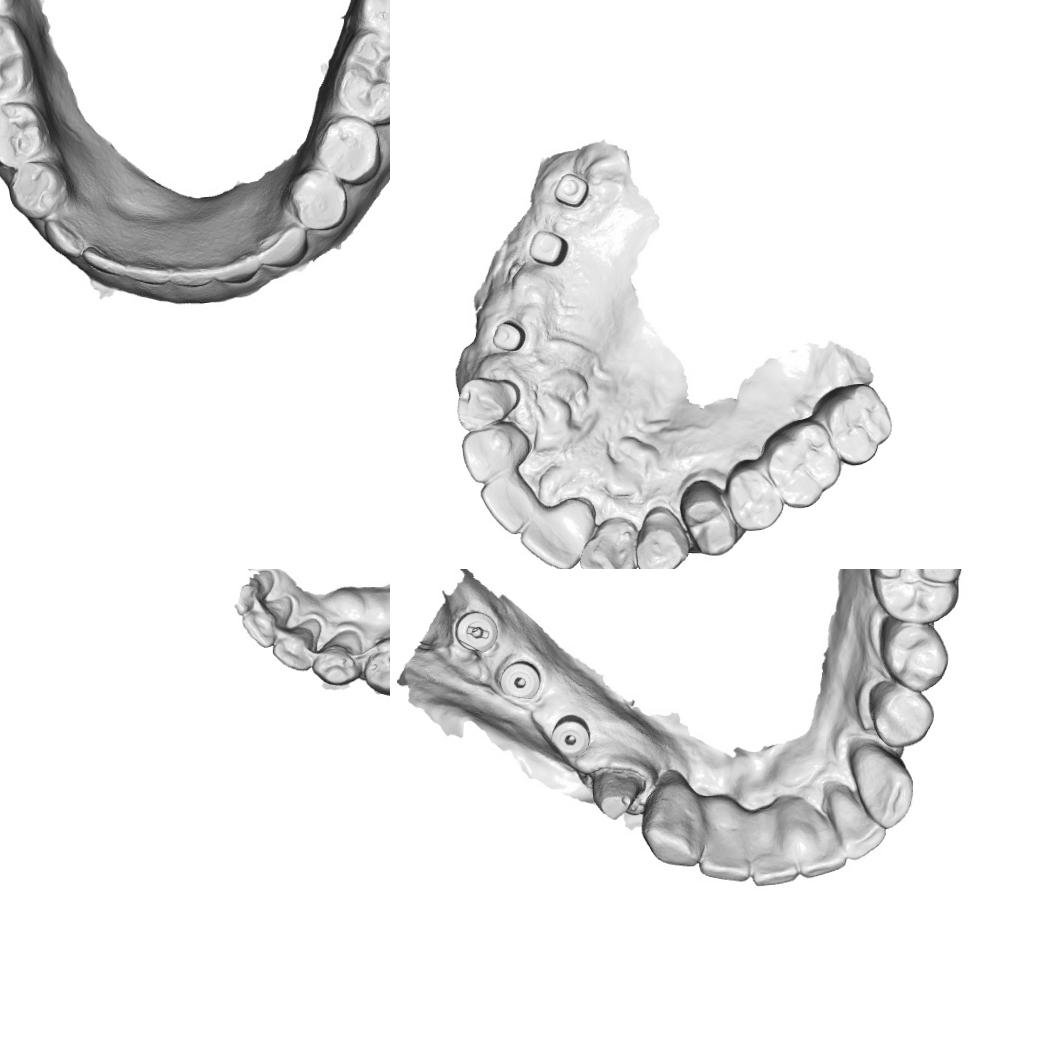abutment: (526, 226, 571, 271), (552, 169, 592, 211), (489, 317, 528, 354)
canine: (640, 780, 705, 868), (859, 746, 916, 830), (453, 374, 520, 432), (635, 503, 689, 569), (311, 627, 364, 686), (257, 220, 309, 268), (40, 212, 86, 260)
crown: (586, 766, 644, 822)
implant: (497, 659, 542, 700), (550, 714, 591, 758)
implant_minus: (451, 611, 504, 656)
incisor: (517, 496, 597, 569), (458, 420, 534, 486), (789, 811, 851, 887), (828, 792, 888, 864), (478, 473, 535, 537), (577, 515, 640, 569), (240, 595, 294, 649), (697, 834, 751, 886), (271, 618, 322, 672), (748, 839, 802, 888), (119, 254, 174, 292), (210, 255, 264, 286), (81, 245, 119, 280), (169, 260, 216, 288)
molar: (761, 418, 845, 509), (812, 380, 894, 468), (328, 30, 390, 127), (865, 569, 964, 624), (0, 14, 37, 106)
premolar: (876, 618, 950, 694), (677, 478, 742, 558), (316, 114, 384, 185), (721, 462, 785, 533), (285, 166, 349, 233), (870, 684, 934, 748), (5, 158, 68, 219), (0, 101, 46, 168), (362, 635, 390, 697)
